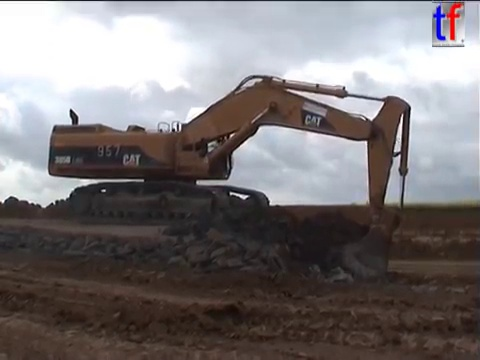excavator: (44, 71, 415, 284)
